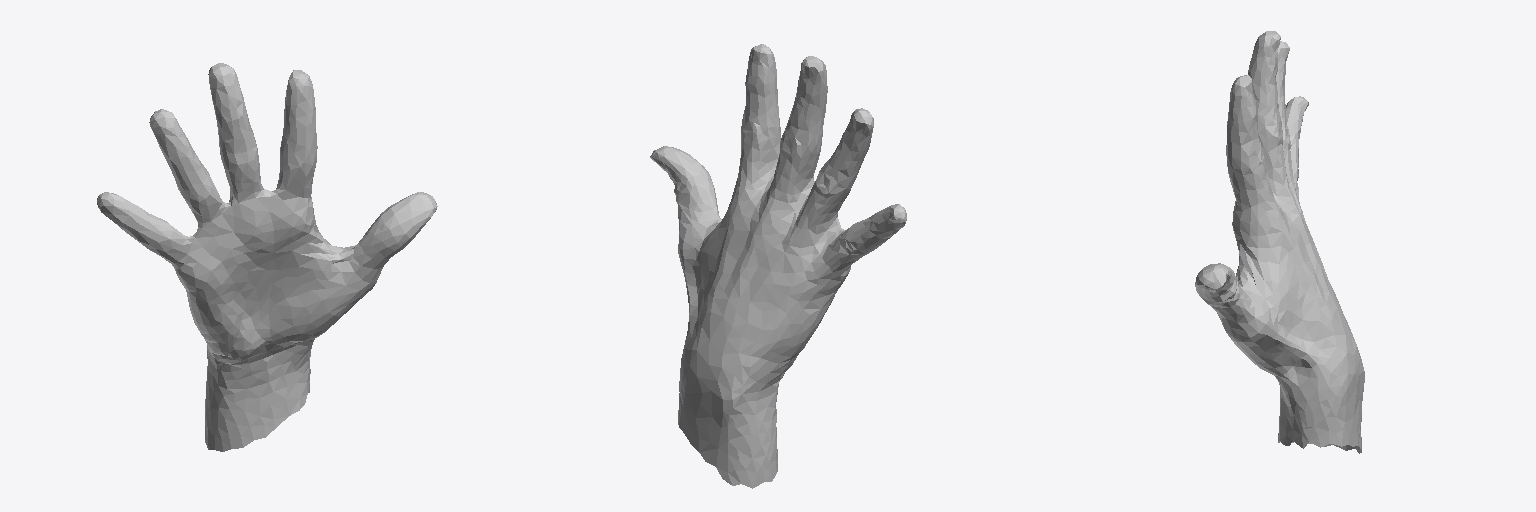
File: gipshand2-3k.obj
3 renders of one model, left to right at view 1: azimuth 30°, elevation 25°; view 2: azimuth 150°, elevation 25°; view 3: azimuth 270°, elevation 25°, orthographic.
Parts seen in each view (by area): view 1: gipshand2-105_and_gipshand2-270_and_gipshand2-285_and_gipshand2-; view 2: gipshand2-105_and_gipshand2-270_and_gipshand2-285_and_gipshand2-; view 3: gipshand2-105_and_gipshand2-270_and_gipshand2-285_and_gipshand2-.
Part boxes in pixels (x1,y1,x2,y2): gipshand2-105_and_gipshand2-270_and_gipshand2-285_and_gipshand2-: (97,63,437,451); gipshand2-105_and_gipshand2-270_and_gipshand2-285_and_gipshand2-: (650,44,906,488); gipshand2-105_and_gipshand2-270_and_gipshand2-285_and_gipshand2-: (1195,31,1364,453).
Size of the model in its own units: 176 by 232 by 87.32.